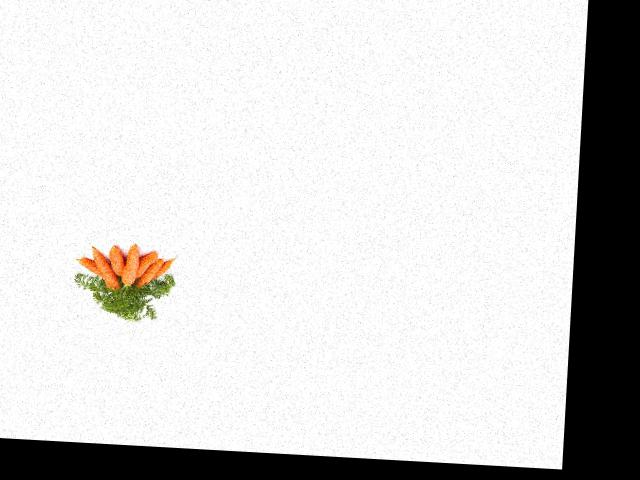carrot: (76, 253, 110, 280)
